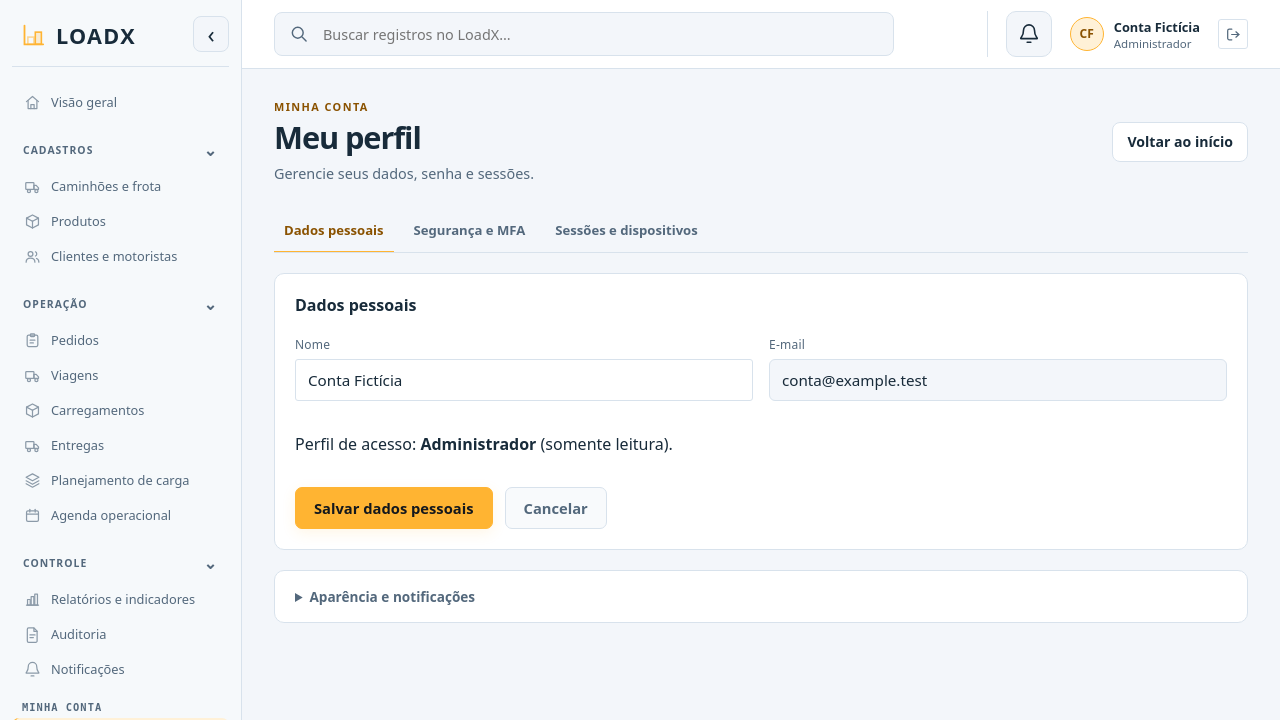
it: OC92 Meu perfil › cancela edição e restaura dados persistidos
Expected: the heading "Meu perfil" is shown, [274,116,421,158]
Replace the text in the field labelled "Nome" with "Rascunho": (524, 380) [295,359,753,401]
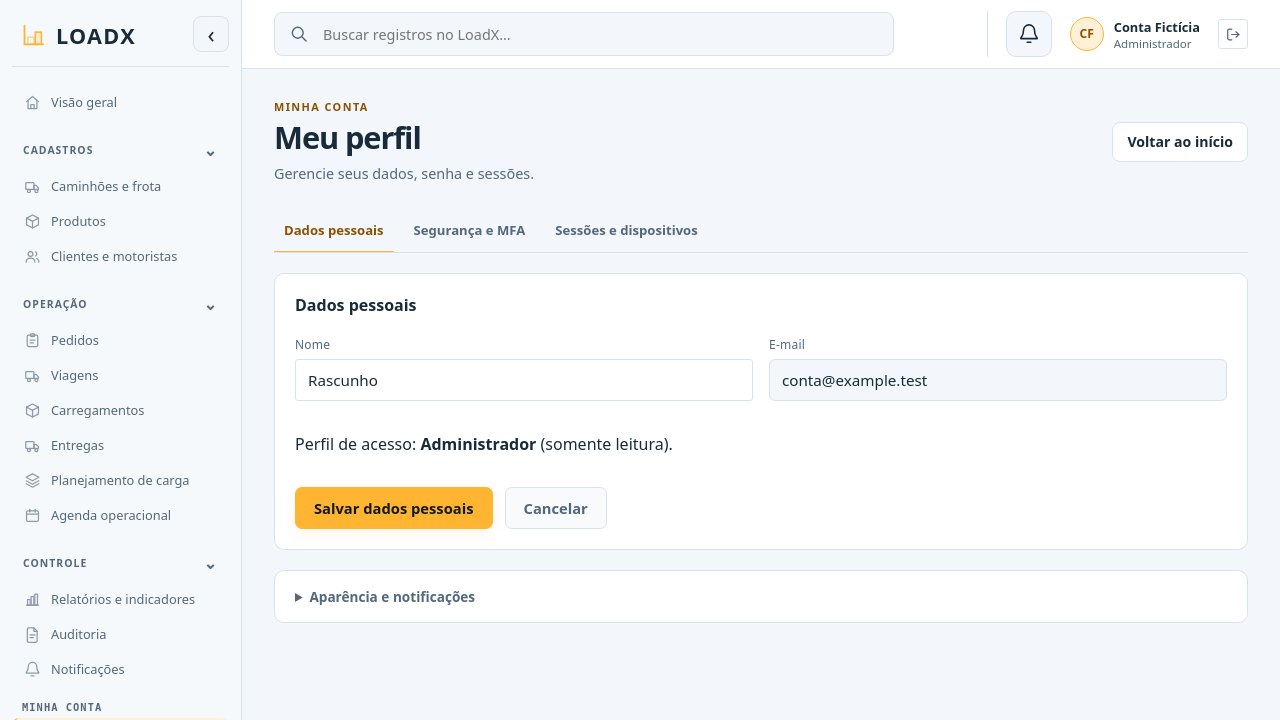
Click the button "Cancelar": (556, 508) [504,487,607,529]
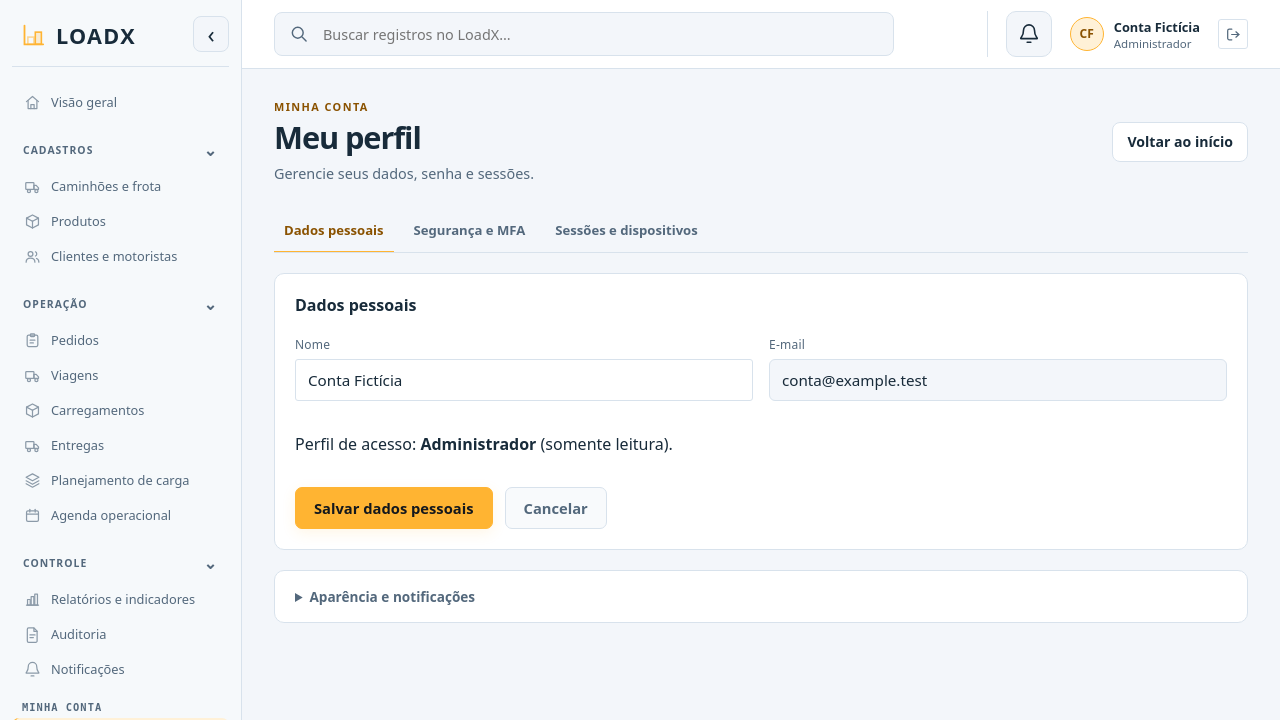
Expected: the field labelled "Nome" holds "Conta Fictícia", [295,359,753,401]
